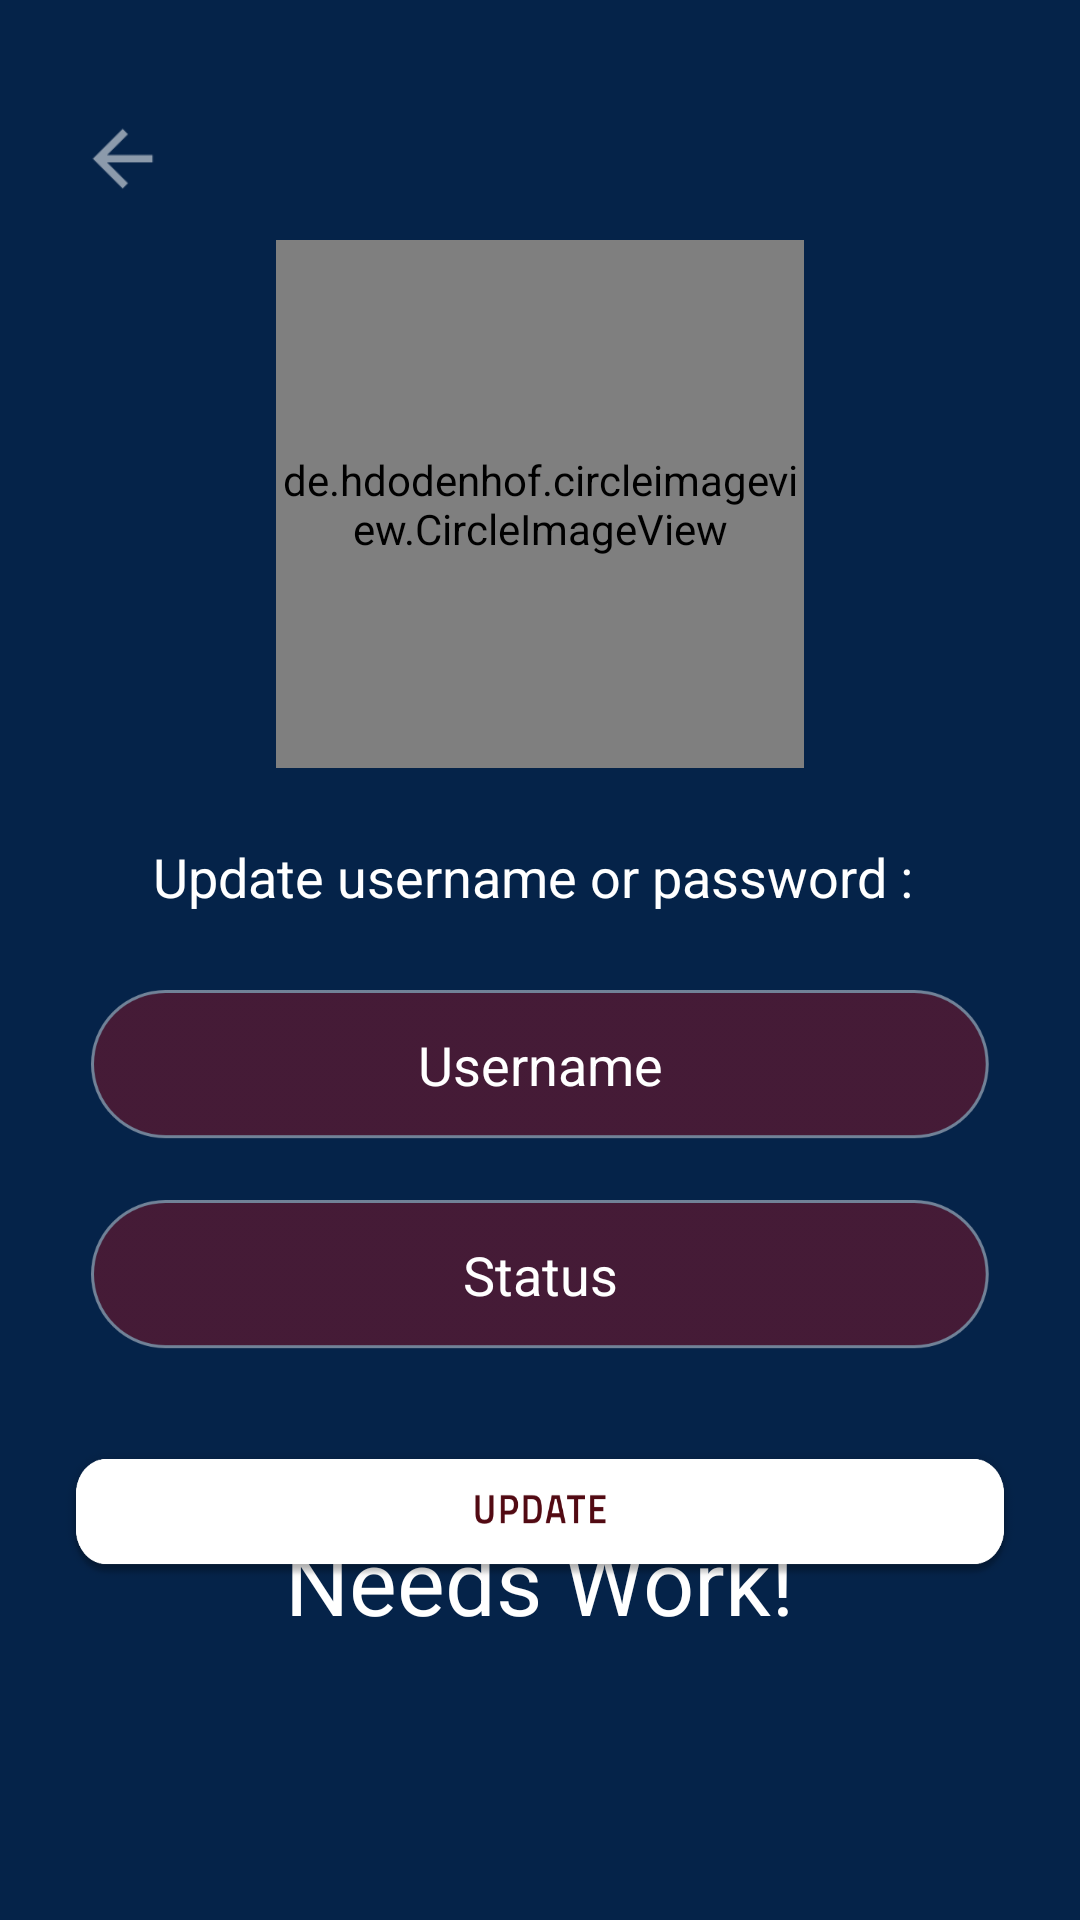

Where to tap for icons on this 1080px x 1920px app screen, as point (x, y):
arrow: point (123, 159)
